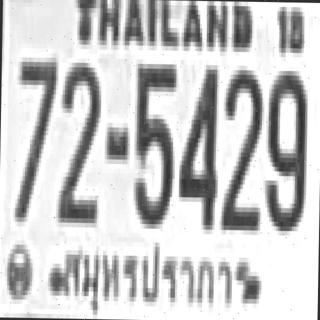N02: (56, 58, 99, 218), (220, 65, 262, 226)
N04: (178, 64, 217, 225)
N05: (133, 59, 174, 224)
N07: (13, 55, 56, 220)
N09: (264, 66, 306, 226)
P57: (60, 238, 251, 311)
